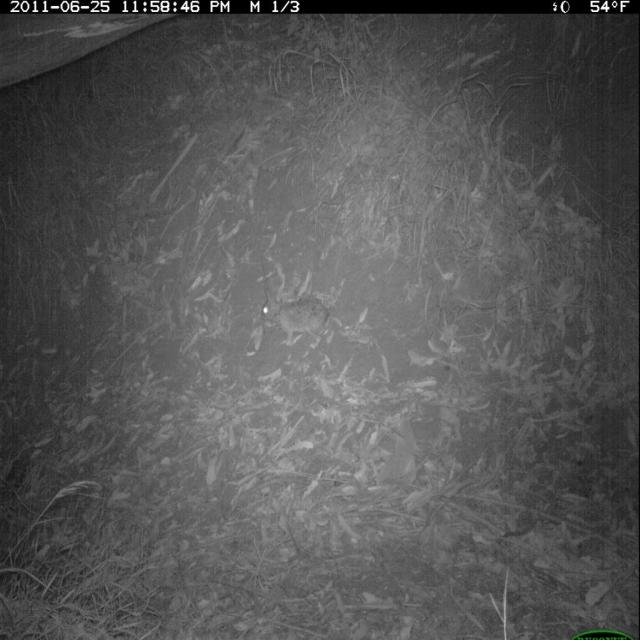rabbit: (255, 276, 338, 357)
